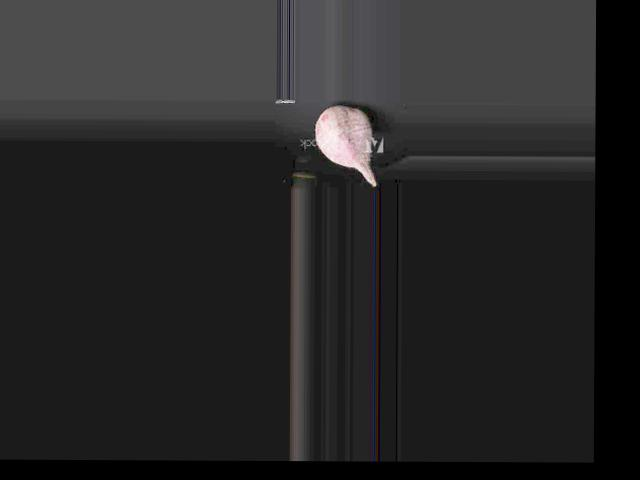beet: (314, 106, 375, 186)
